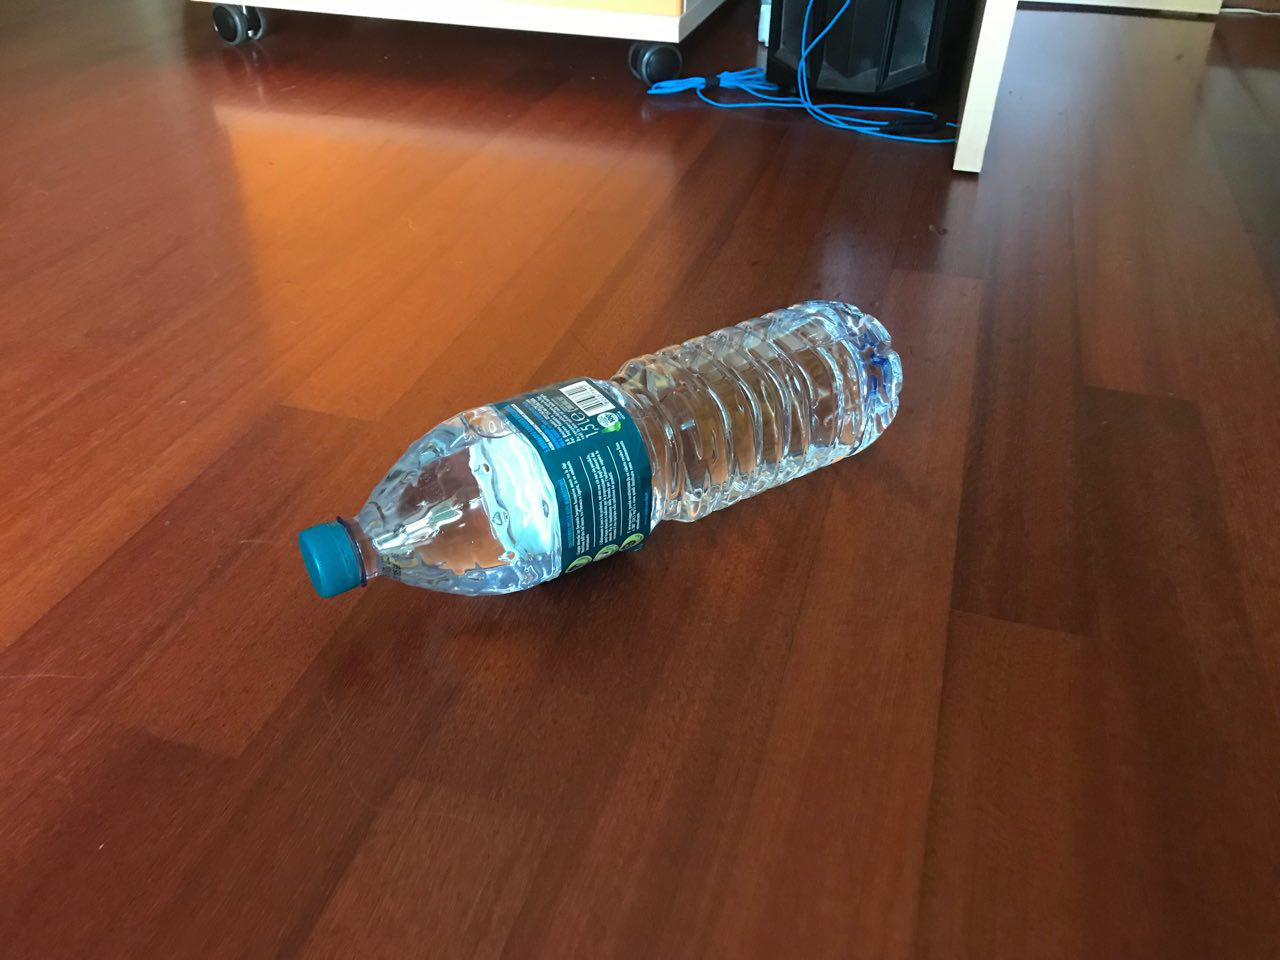san_bernardo: (295, 296, 904, 600)
